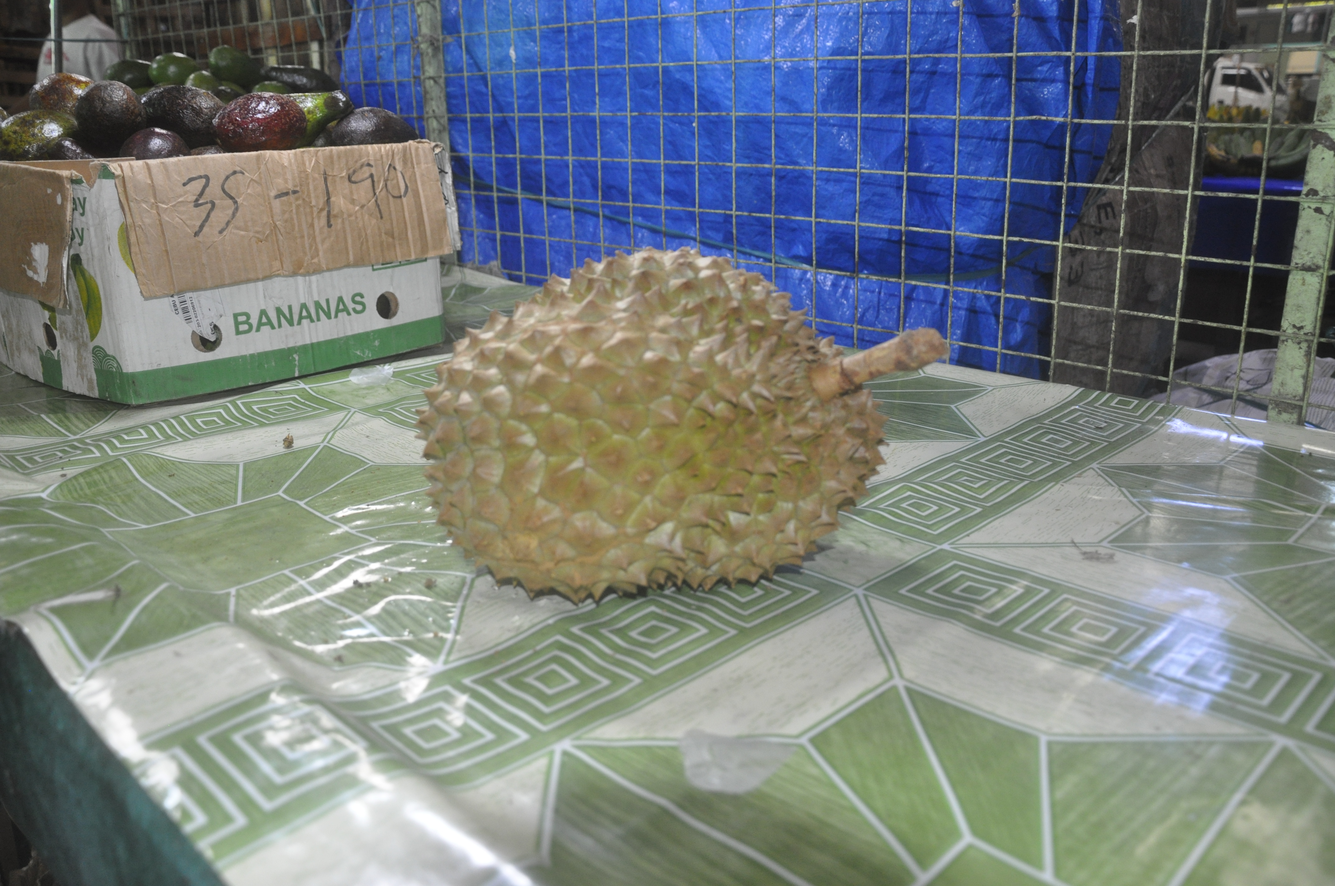mature: (417, 248, 948, 602)
